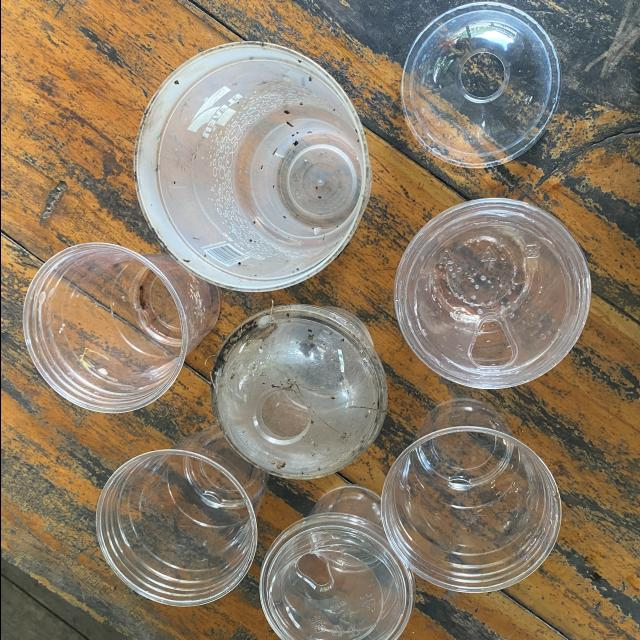plastik: (134, 42, 370, 292), (394, 198, 590, 389), (380, 399, 560, 592), (22, 242, 219, 412), (210, 304, 387, 480), (96, 425, 266, 606), (400, 2, 558, 168), (259, 485, 413, 640)
